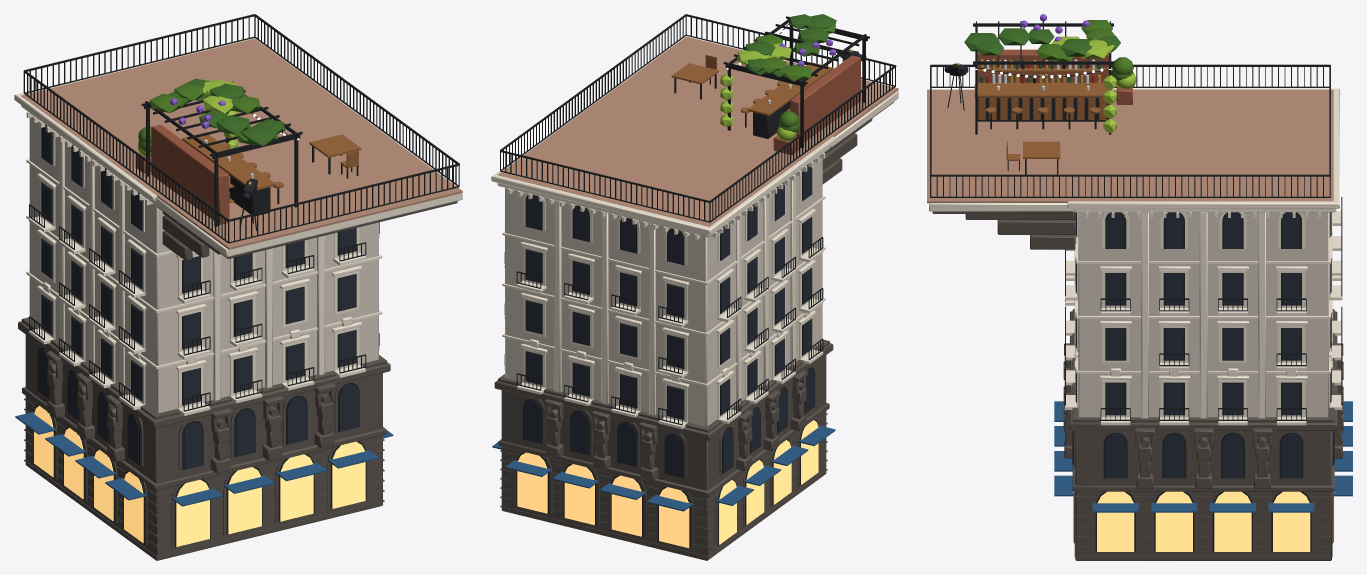
File: building_terrace.fbx
The picture shows the model from 3 angles, left to right: view 1: azimuth 30°, elevation 25°; view 2: azimuth 150°, elevation 25°; view 3: azimuth 270°, elevation 25°; orthographic projection. The views are drawn at different scales.
Parts seen in each view (by area): view 1: building_terrace; view 2: building_terrace; view 3: building_terrace.
Part boxes in pixels (x1,y1,x2,y2): building_terrace: [14, 14, 462, 560]; building_terrace: [491, 14, 898, 560]; building_terrace: [927, 14, 1352, 560].
Size of the model in its own units: 16.3 by 26.85 by 23.25.
